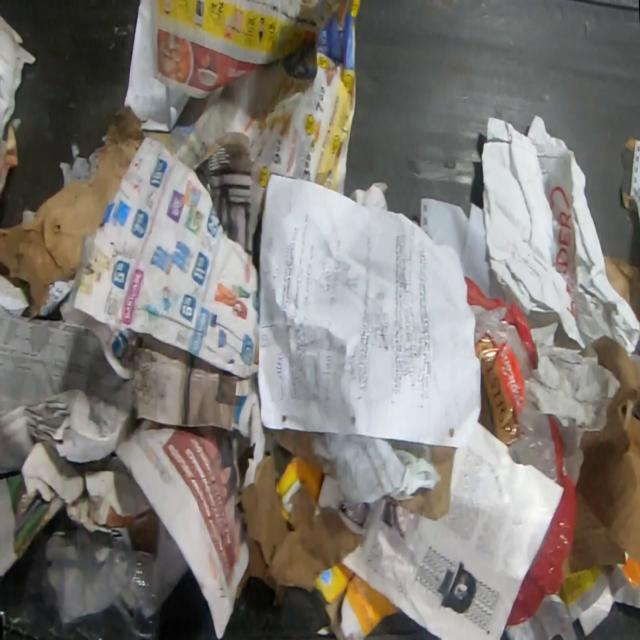cardboard: (567, 335, 640, 576), (314, 561, 401, 640), (273, 453, 324, 528)
soft_plastic: (464, 275, 584, 627), (43, 527, 162, 639)
